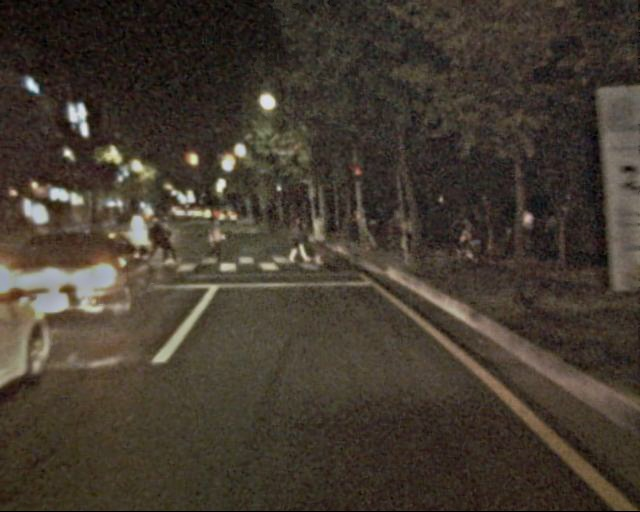person: (149, 207, 176, 273), (286, 213, 311, 270), (199, 208, 223, 267), (401, 210, 425, 265), (304, 212, 327, 269), (469, 204, 492, 258), (345, 213, 366, 270)
